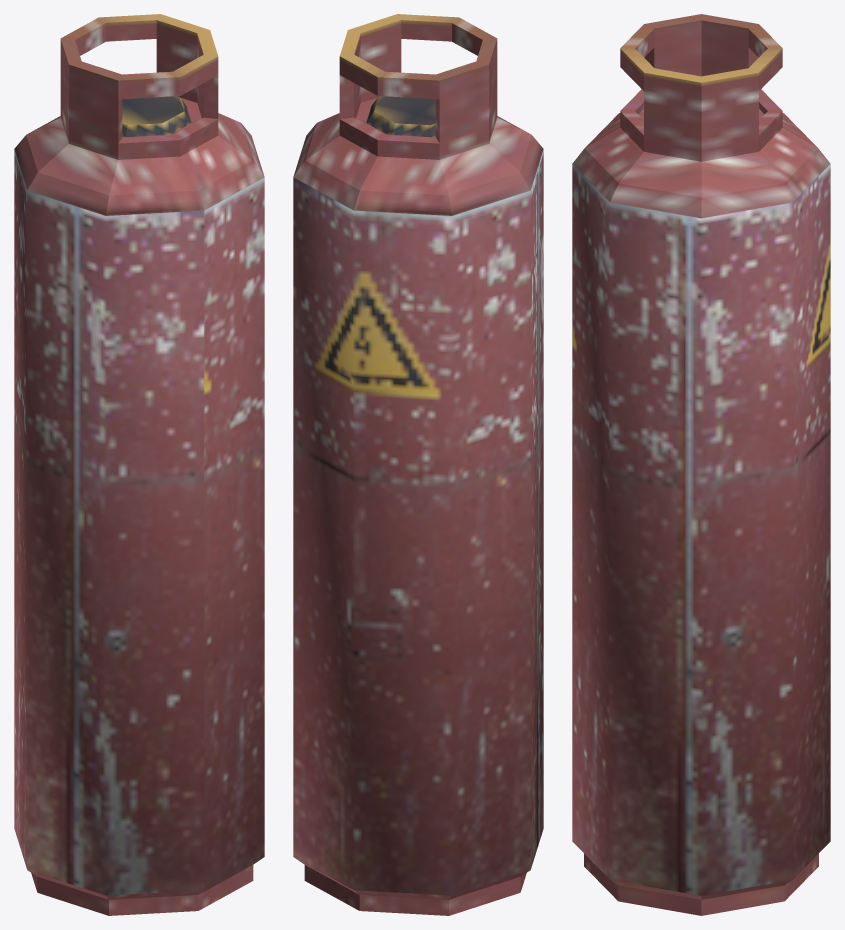
Rendered from Tarima_de_Costales.fbx.
3 views of the same model, side by side, from view 1: azimuth 30°, elevation 25°; view 2: azimuth 150°, elevation 25°; view 3: azimuth 270°, elevation 25° (orthographic).
Parts seen in each view (by area): view 1: Cilindro.001; view 2: Cilindro.001; view 3: Cilindro.001.
Boxes of the visible parts, bbox=[...] form: Cilindro.001: bbox=[14, 14, 264, 915]; Cilindro.001: bbox=[293, 14, 543, 915]; Cilindro.001: bbox=[572, 14, 830, 915].
Bounding box in the file's own units: 196 × 683 × 196.
1 material, 1 textured.
